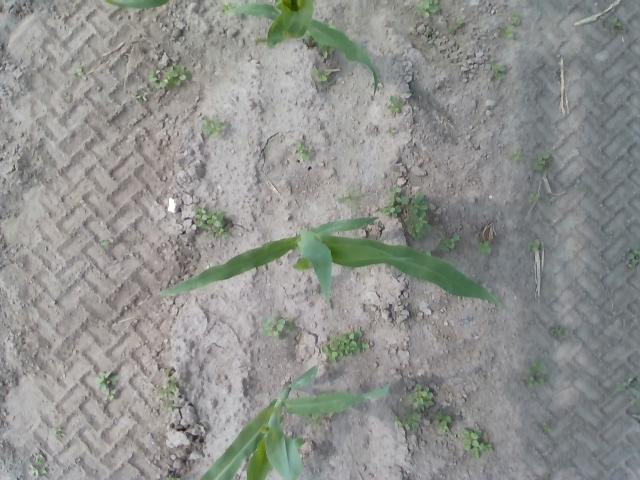Maize: (158, 216, 504, 310), (107, 0, 377, 98), (198, 365, 389, 480)
Weeds: (322, 330, 369, 360), (338, 182, 371, 216), (408, 380, 436, 412), (402, 208, 430, 238), (462, 428, 493, 454), (262, 316, 288, 340), (208, 214, 232, 236), (401, 194, 427, 214), (394, 413, 422, 431), (432, 412, 452, 436), (203, 116, 227, 135), (294, 139, 312, 161), (99, 371, 118, 391), (438, 234, 458, 252), (311, 67, 331, 85), (168, 66, 186, 86), (622, 246, 638, 267), (534, 152, 552, 170), (159, 379, 176, 398), (389, 96, 406, 115), (192, 210, 211, 226), (620, 376, 636, 393), (529, 369, 546, 385), (609, 18, 626, 34), (494, 62, 508, 80), (151, 76, 169, 88), (424, 0, 440, 13), (548, 326, 564, 338), (450, 19, 464, 32), (384, 204, 402, 214), (480, 240, 492, 255), (30, 463, 42, 476), (512, 151, 525, 162), (529, 240, 541, 251), (105, 389, 118, 399), (542, 421, 554, 431), (528, 192, 540, 202), (510, 14, 520, 26), (506, 30, 512, 40)
